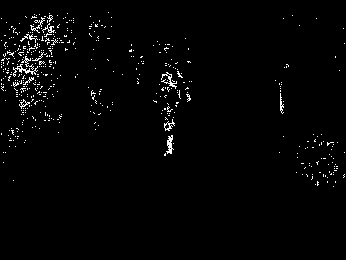person: (155, 72, 181, 156)
